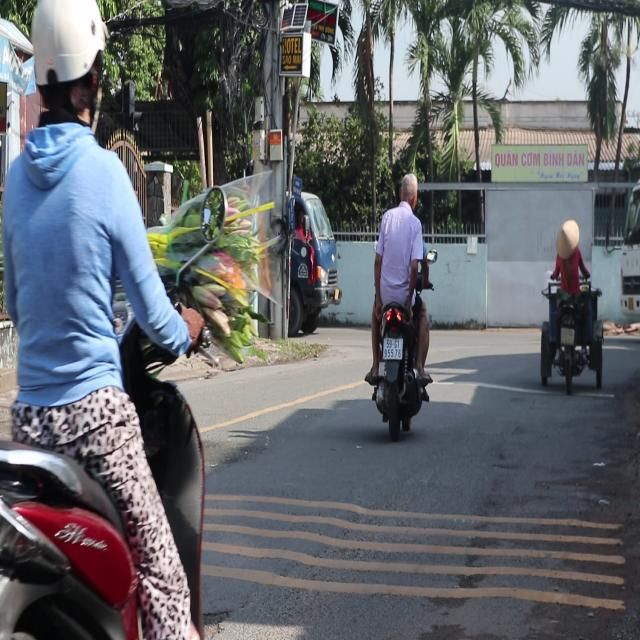helmet: (25, 0, 106, 140)
licenseplate: (0, 1, 221, 637), (362, 170, 433, 438)
motorcyclist: (398, 173, 418, 209)
nohelmet: (383, 338, 402, 358)
